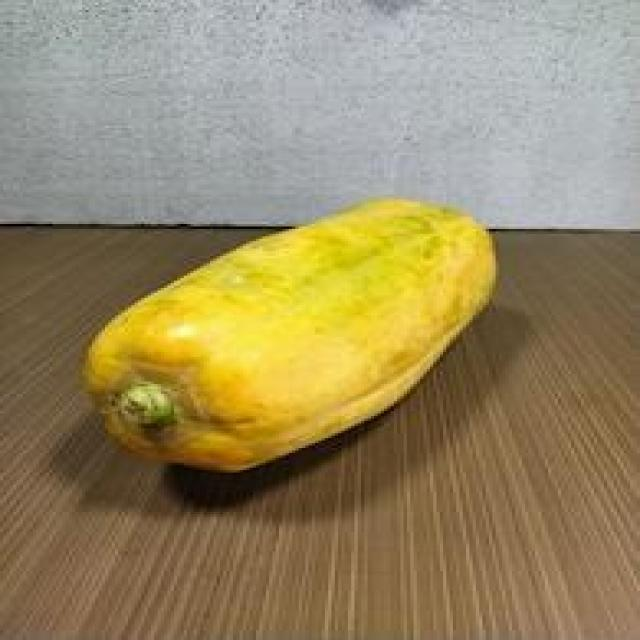Pepaya rippen: (80, 188, 511, 473)
